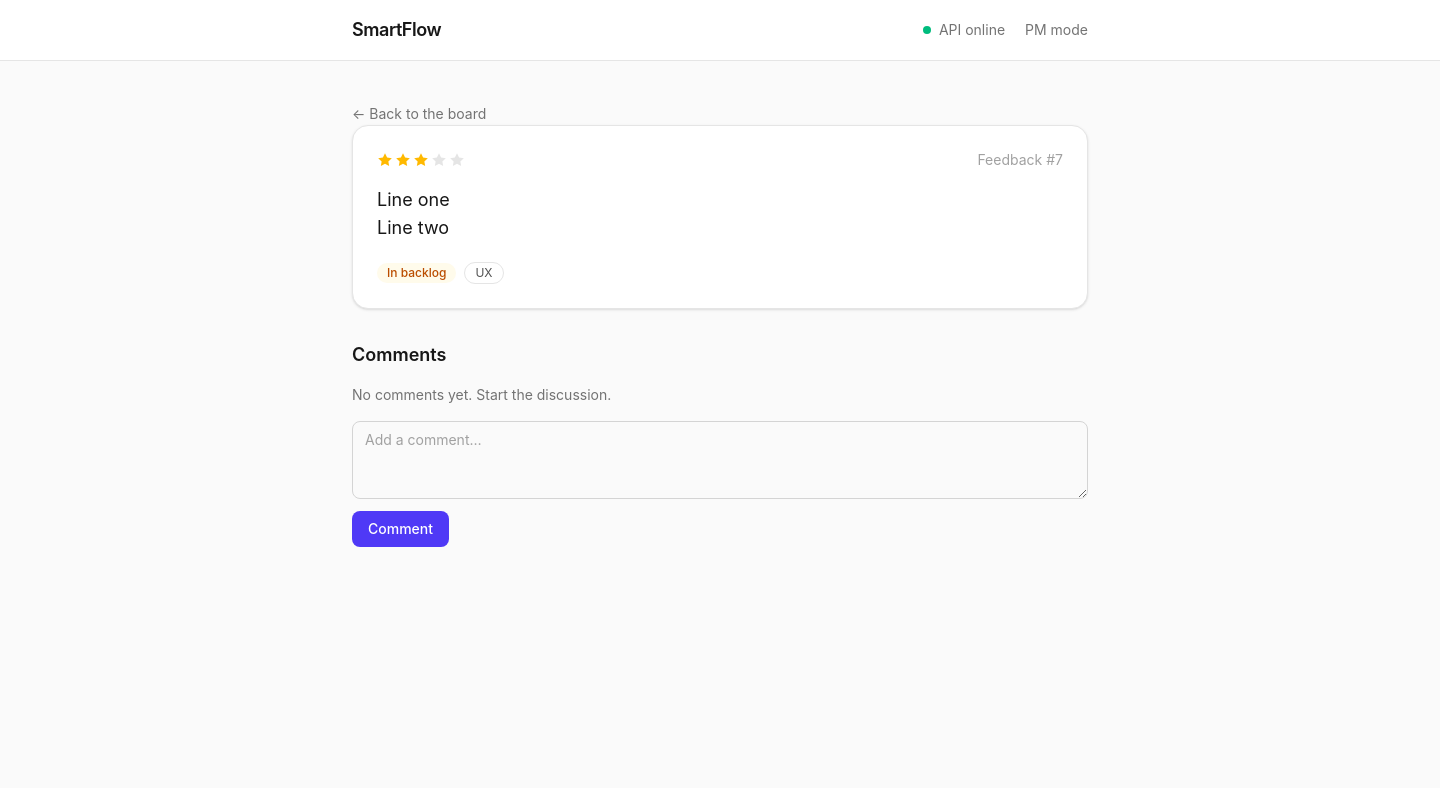
Test: PM mode (spec 007) › AC-5: leaves PM mode when a PM request gets a 401
Click the button "PM mode": click(1057, 30) left=1025, top=20, right=1088, bottom=40
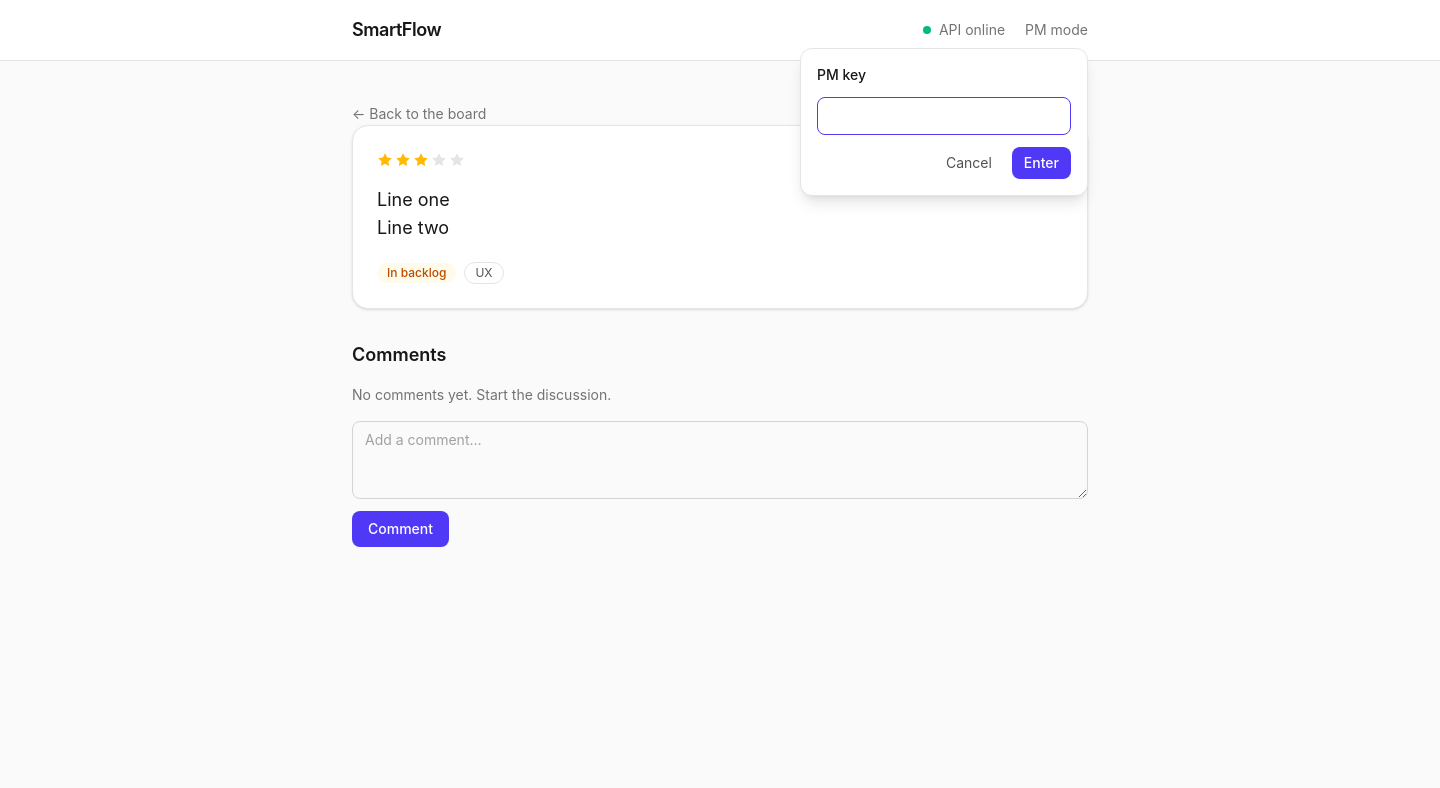
In the password field labelled "PM key": (944, 116) left=817, top=97, right=1071, bottom=135, type "s3cret"
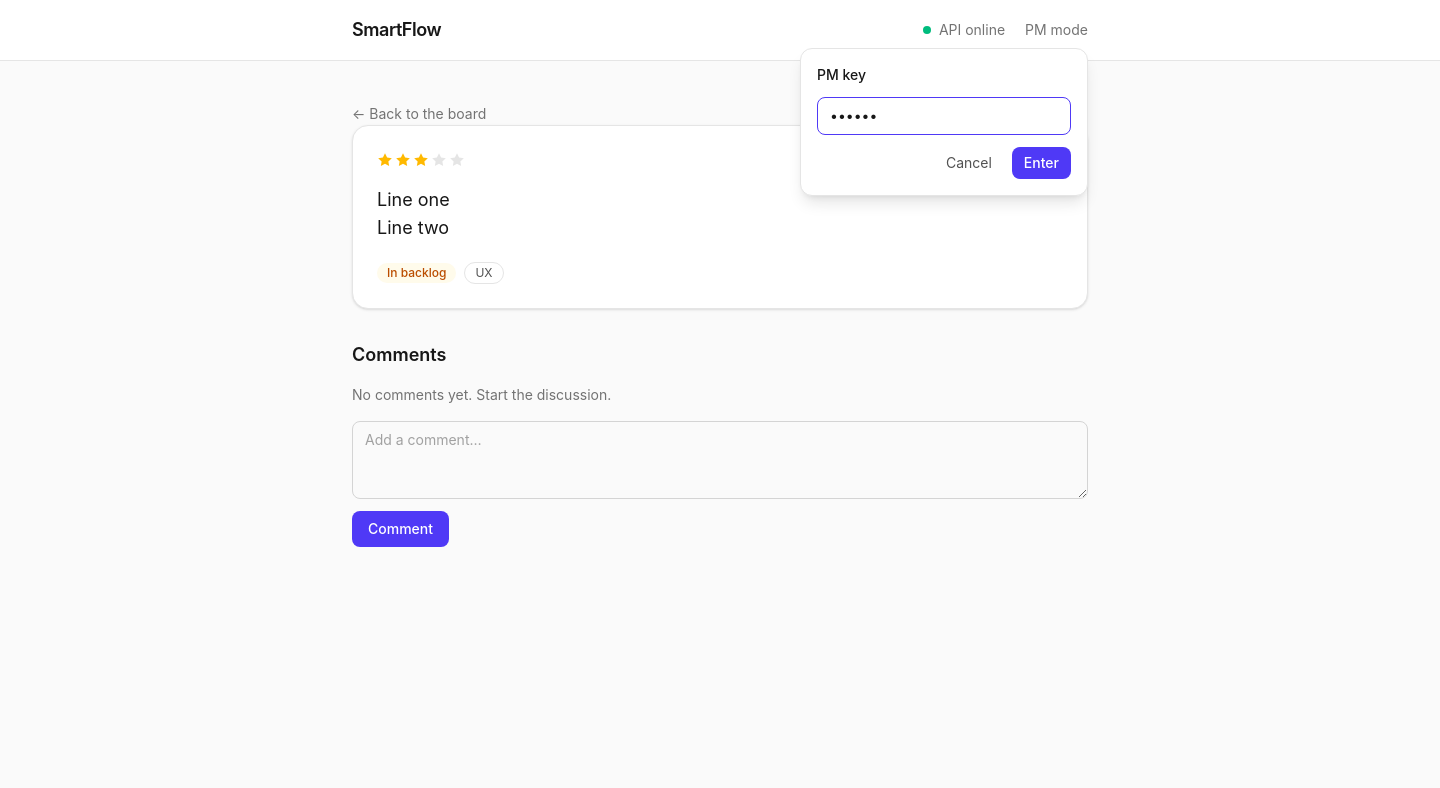
Click the button "Enter": click(1041, 163) left=1012, top=147, right=1071, bottom=179
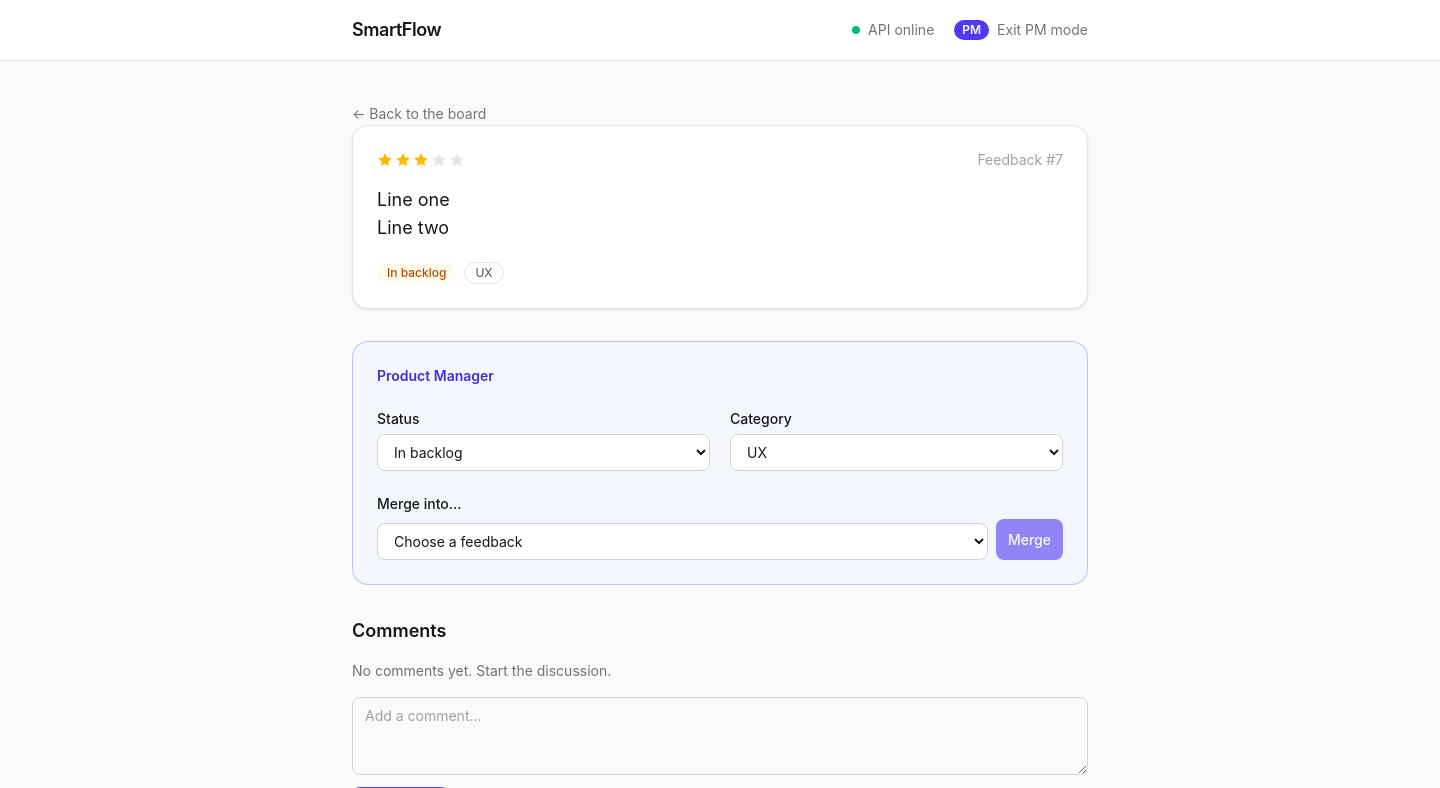
Select "Solved" in the dropdown labelled "Status": (544, 452) left=377, top=434, right=710, bottom=471
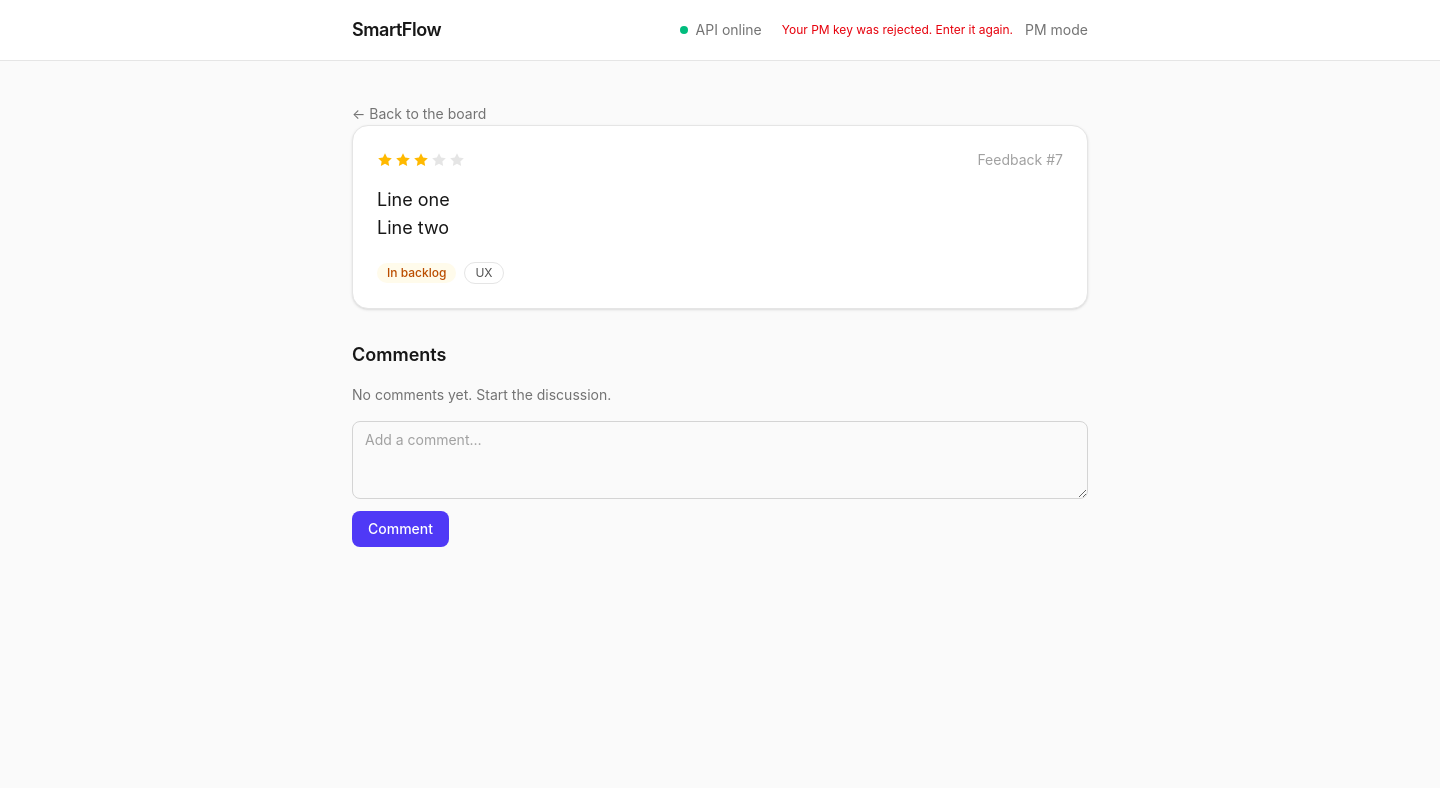
Check: the text "Your PM key was rejected. Enter it again." is shown, box left=782, top=22, right=1013, bottom=38
Check: the label labelled "Status" is gone
